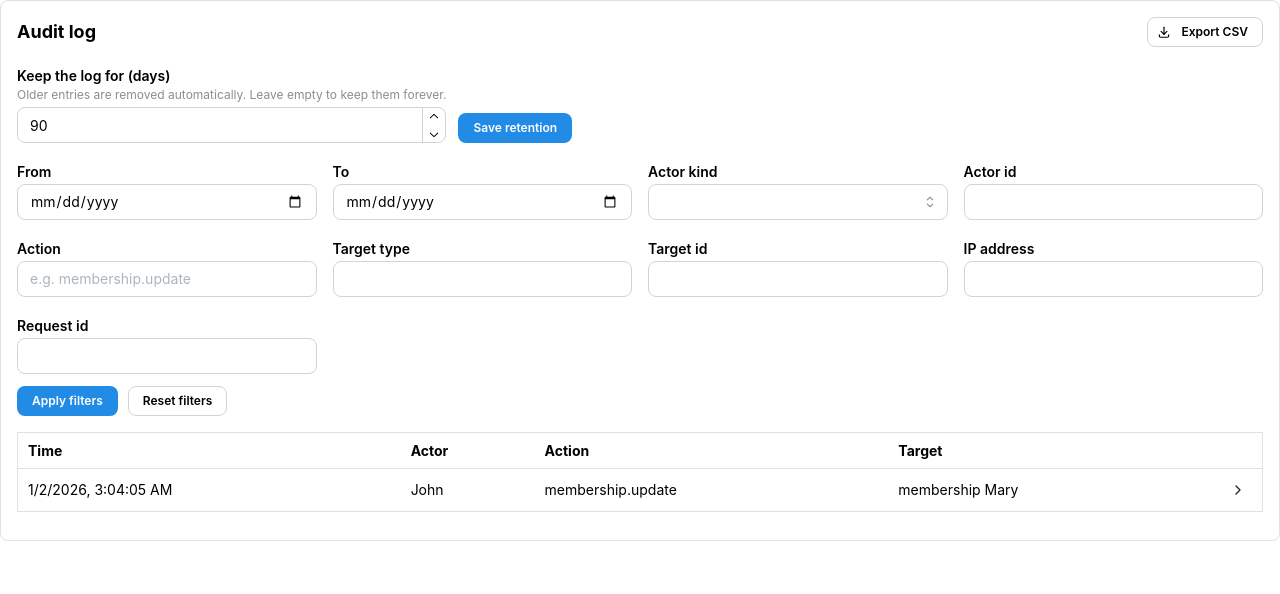
Scenario: shows a sensitive field as changed only
The width and height of the screenshot is (1280, 594).
Click the button named "Show changes": (1238, 490) [1224,476,1252,504]
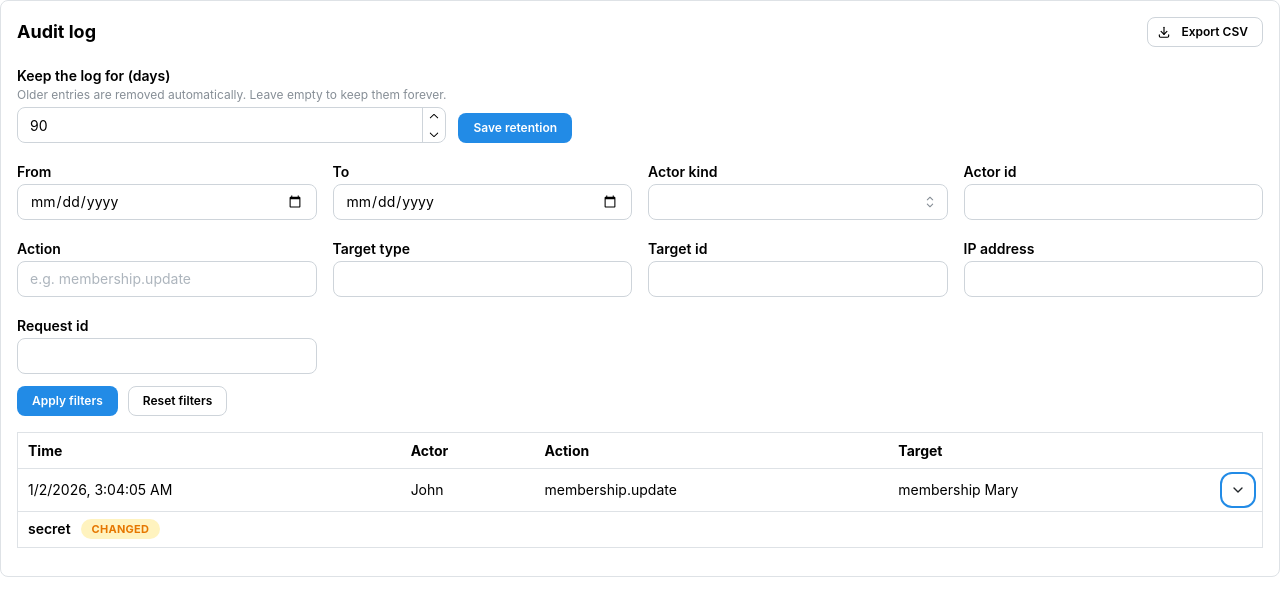
Expected: the text "secret" is shown, [28,519,71,540]
Expected: the text "changed" is shown, [92,520,149,538]
